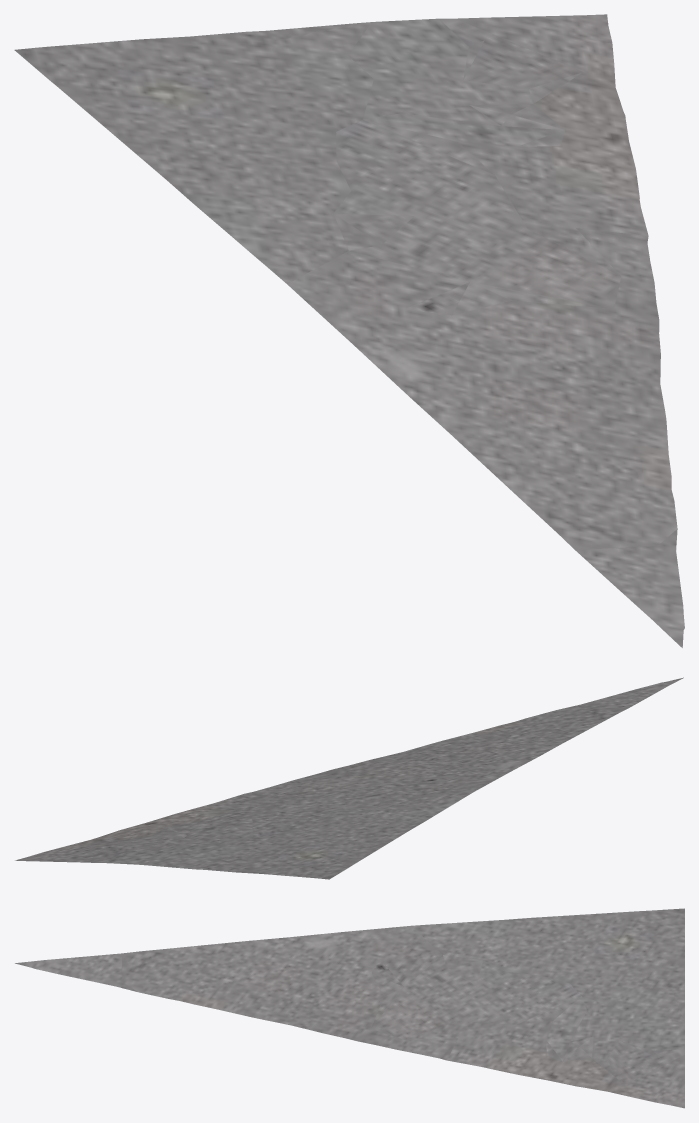
The picture shows the model from 3 angles, top to bottom: view 1: azimuth 30°, elevation 25°; view 2: azimuth 150°, elevation 25°; view 3: azimuth 270°, elevation 25°; orthographic projection. The views are drawn at different scales.
Bounding box in the file's own units: 1.48 × 0.2599 × 2.88.
1 material, 1 textured.
